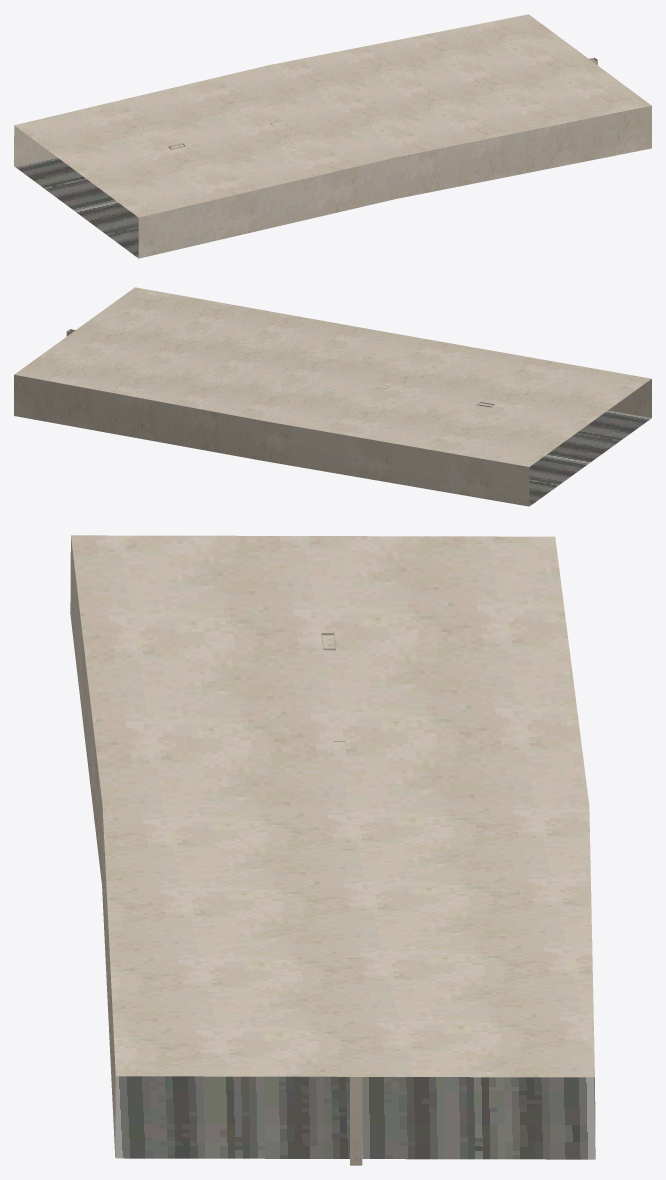
Rendered from lodgolftunnel2_sfs.obj.
3 renders of one model, top to bottom at view 1: azimuth 30°, elevation 25°; view 2: azimuth 150°, elevation 25°; view 3: azimuth 270°, elevation 25°, orthographic. The views are drawn at different scales.
Parts seen in each view (by area): view 1: LODgolftunnel2_SFS; view 2: LODgolftunnel2_SFS; view 3: LODgolftunnel2_SFS.
Part boxes in pixels (x1,y1,x2,y2): LODgolftunnel2_SFS: [14, 14, 651, 258]; LODgolftunnel2_SFS: [14, 287, 651, 506]; LODgolftunnel2_SFS: [70, 535, 595, 1165].
Size of the model in its own units: 65.54 by 7.96 by 29.1.
Materials: 2 (2 with a texture image).
